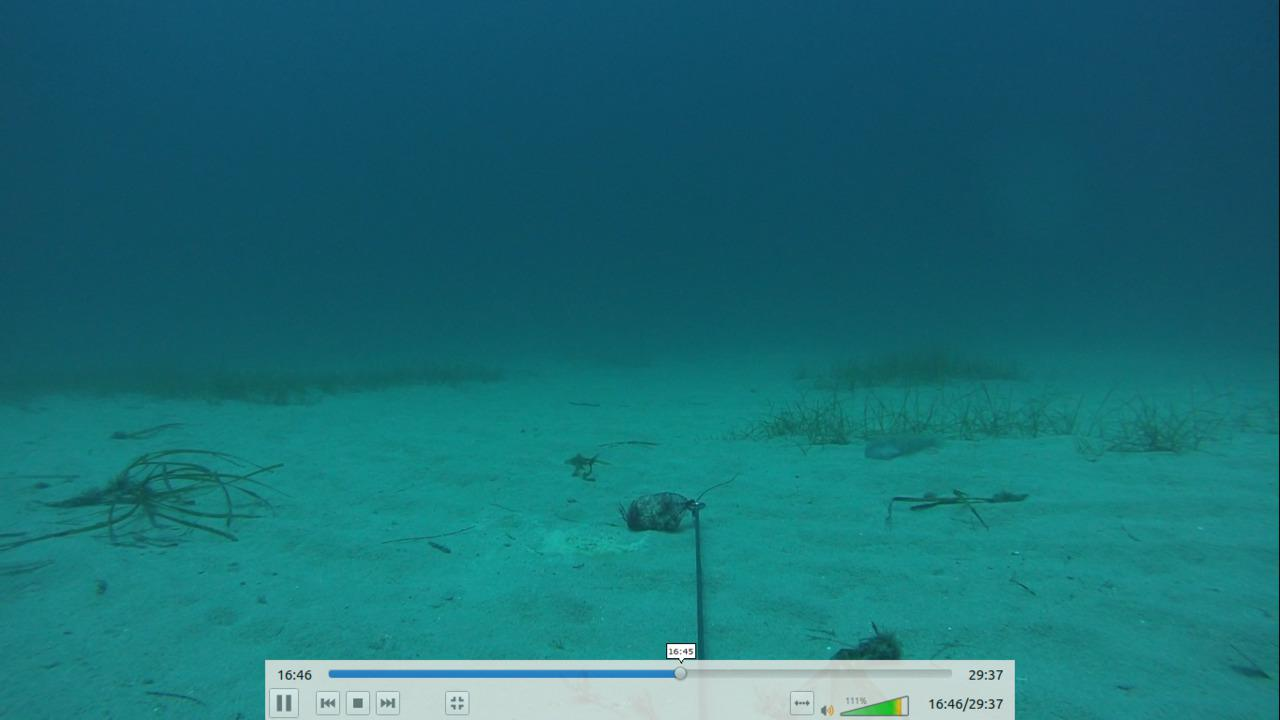raor: (856, 425, 946, 463)
